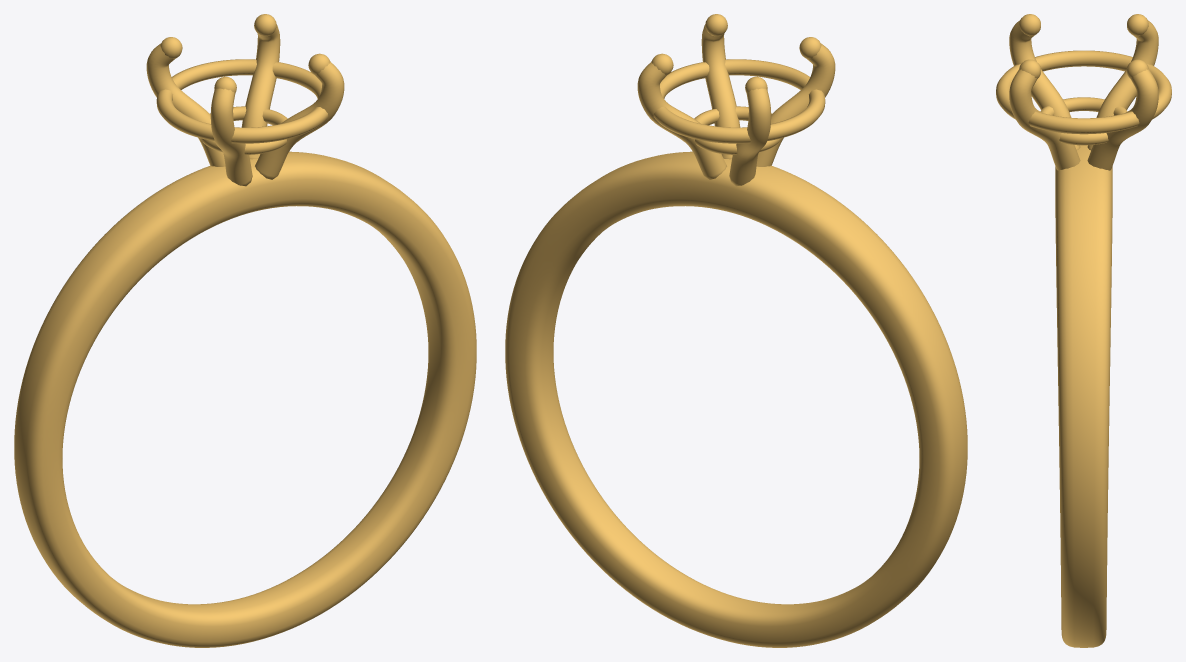
File: Ring_Solitaire.glb
3 views of the same model, side by side, from view 1: azimuth 30°, elevation 25°; view 2: azimuth 150°, elevation 25°; view 3: azimuth 270°, elevation 25° (orthographic).
Visible parts, largest first — view 1: Band, Head_Center; view 2: Band, Head_Center; view 3: Band, Head_Center.
Boxes of the visible parts, bbox=[...] form: Band: bbox=[14, 151, 476, 647]; Head_Center: bbox=[146, 14, 344, 186]; Band: bbox=[505, 151, 967, 647]; Head_Center: bbox=[637, 14, 835, 186]; Band: bbox=[1055, 145, 1112, 647]; Head_Center: bbox=[996, 14, 1171, 170].
Size of the model in its own units: 0.0205 by 0.0258 by 0.00702.
